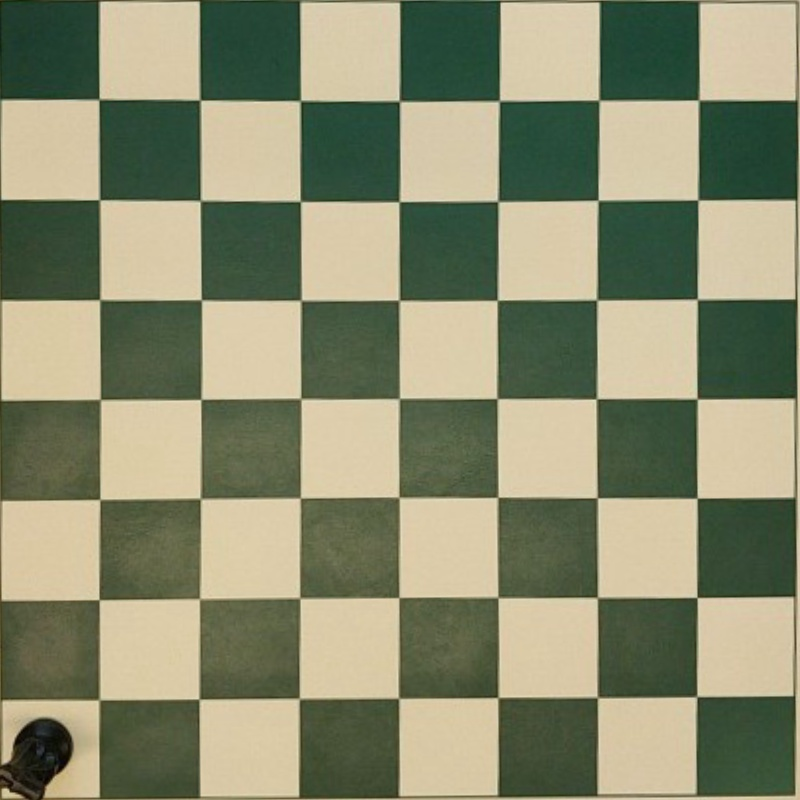black-knight: (0, 717, 74, 800)
